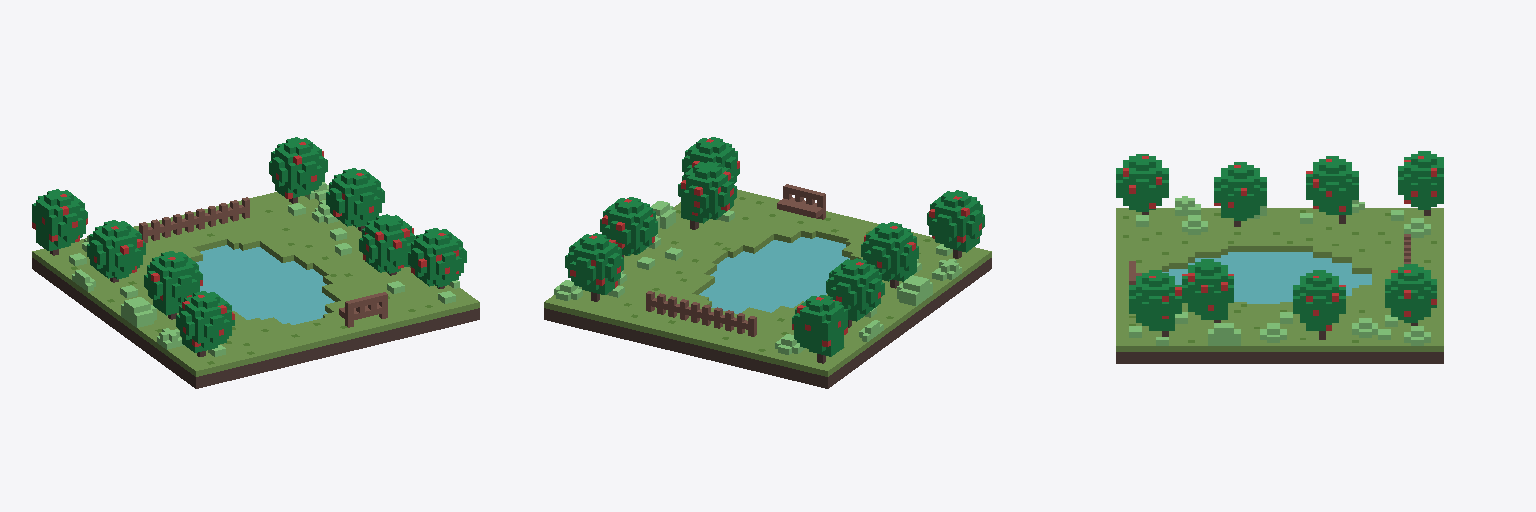
The picture shows the model from 3 angles: view 1: azimuth 30°, elevation 25°; view 2: azimuth 150°, elevation 25°; view 3: azimuth 270°, elevation 25°; orthographic projection.
Parts seen in each view (by area): view 1: object 1; view 2: object 1; view 3: object 1.
Part boxes in pixels (x1,y1,x2,y2): object 1: (32, 137, 479, 388); object 1: (544, 137, 991, 388); object 1: (1116, 151, 1443, 363).
Bounding box in the file's own units: 5 × 1.3 × 5.
1 materials, 1 textured.